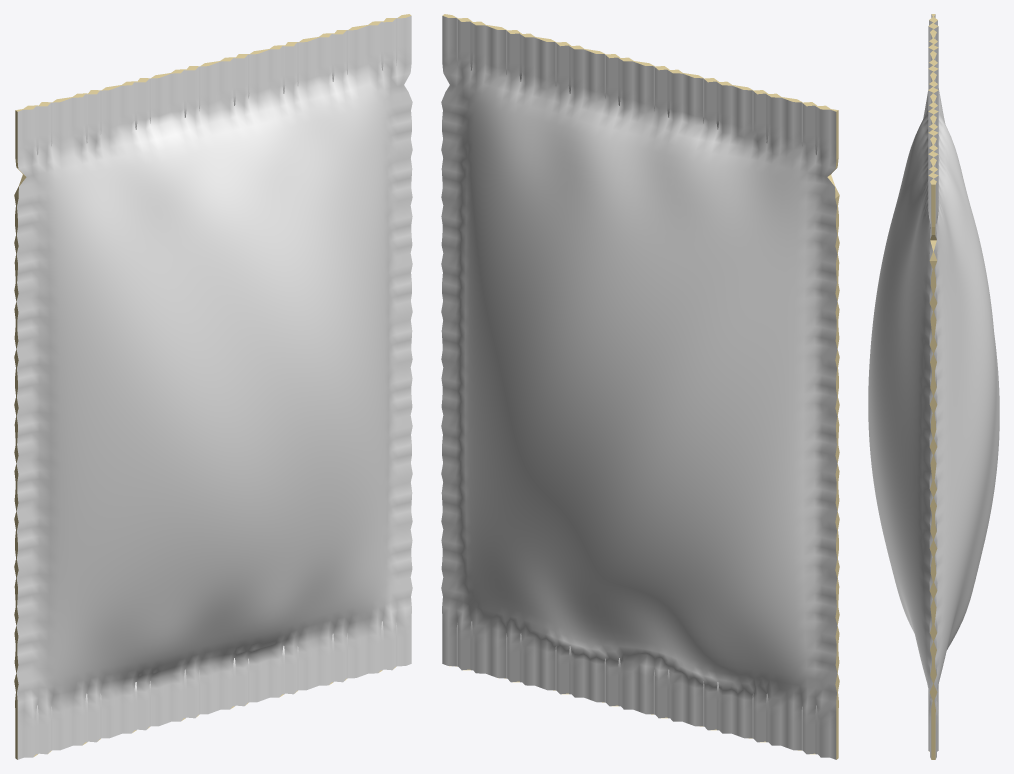
Rendered from sachet_10g.glb.
The picture shows the model from 3 angles, left to right: view 1: azimuth 30°, elevation 25°; view 2: azimuth 150°, elevation 25°; view 3: azimuth 270°, elevation 25°; orthographic projection. The views are drawn at different scales.
Visible parts, largest first — view 1: FrontSurface, BackSurface, FoilSealRim; view 2: BackSurface, FrontSurface, FoilSealRim; view 3: BackSurface, FrontSurface, FoilSealRim.
Boxes of the visible parts, x1=… form: FrontSurface: x1=16, y1=16, x2=412, y2=759; BackSurface: x1=36, y1=18, x2=397, y2=754; FoilSealRim: x1=14, y1=14, x2=411, y2=759; BackSurface: x1=441, y1=16, x2=837, y2=759; FrontSurface: x1=456, y1=18, x2=817, y2=754; FoilSealRim: x1=442, y1=14, x2=839, y2=759; BackSurface: x1=934, y1=14, x2=999, y2=758; FrontSurface: x1=868, y1=14, x2=934, y2=758; FoilSealRim: x1=928, y1=14, x2=938, y2=759.
Bounding box in the file's own units: 0.35 × 0.55 × 0.114.
